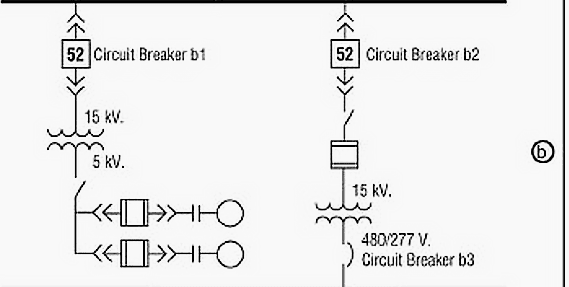circuit_breaker: (324, 234, 360, 276)
fuse: (312, 135, 370, 177)
switch: (333, 97, 364, 132)
transformer: (27, 121, 139, 172), (301, 194, 384, 228)
